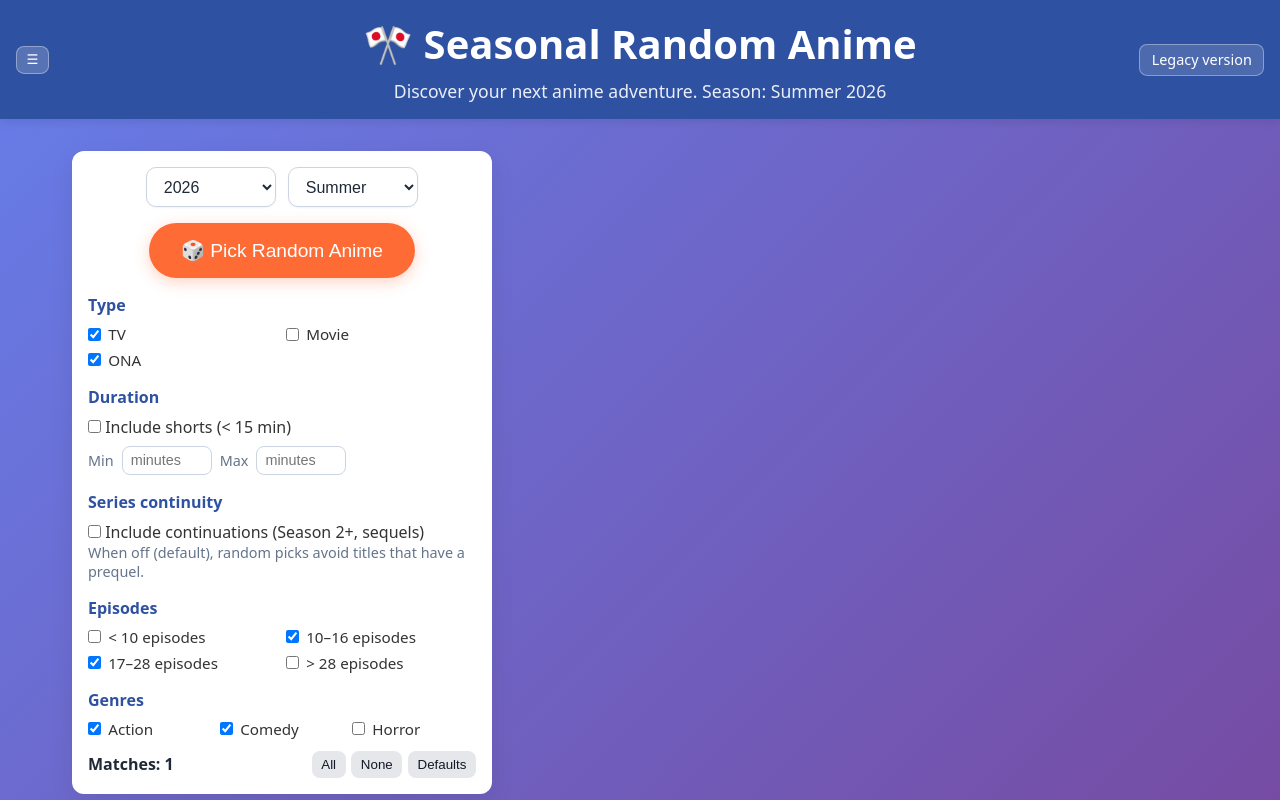
Test case: App (functional) › supports All / None / Defaults bulk actions
Click the button "All" at (329, 764), box 312,751 -> 346,778
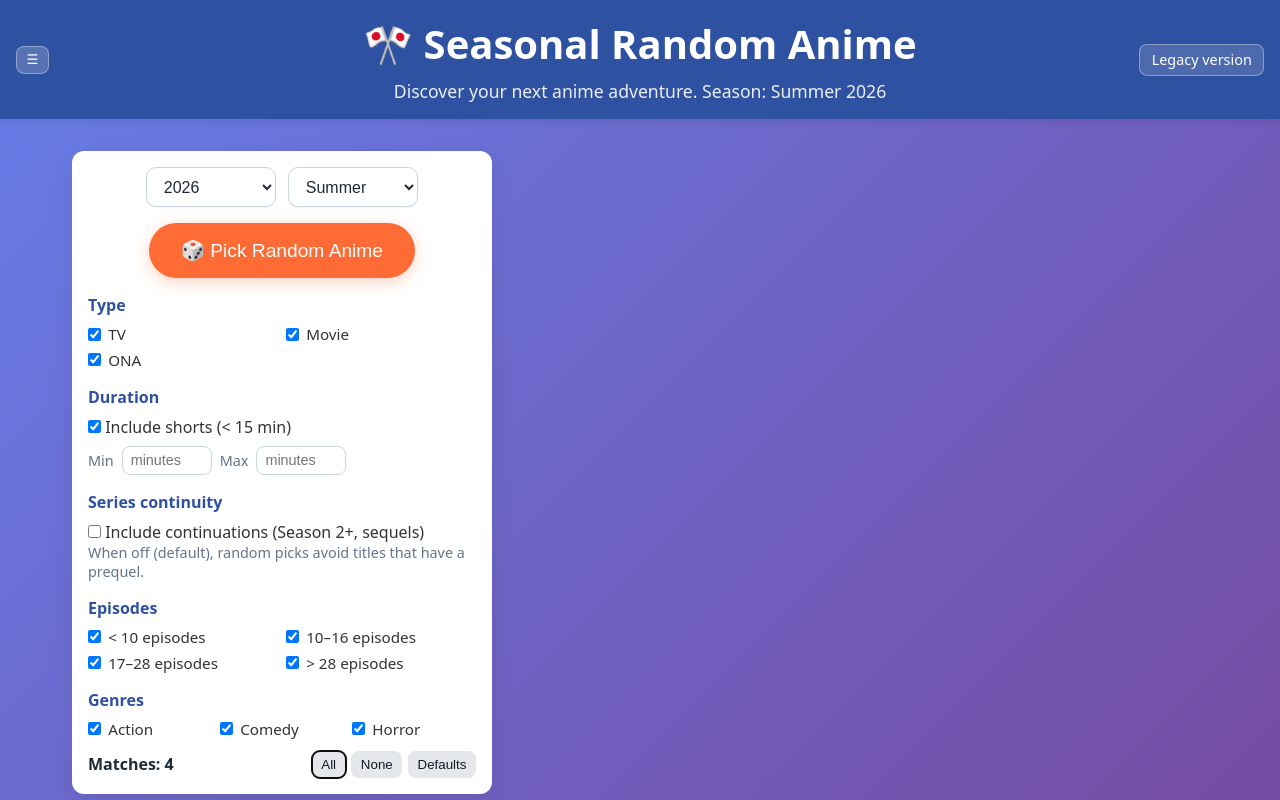
Expected: the text with test id "match-count" reads "4", 165,754 -> 174,776
Click the button "None" at (377, 764), box 351,751 -> 402,778
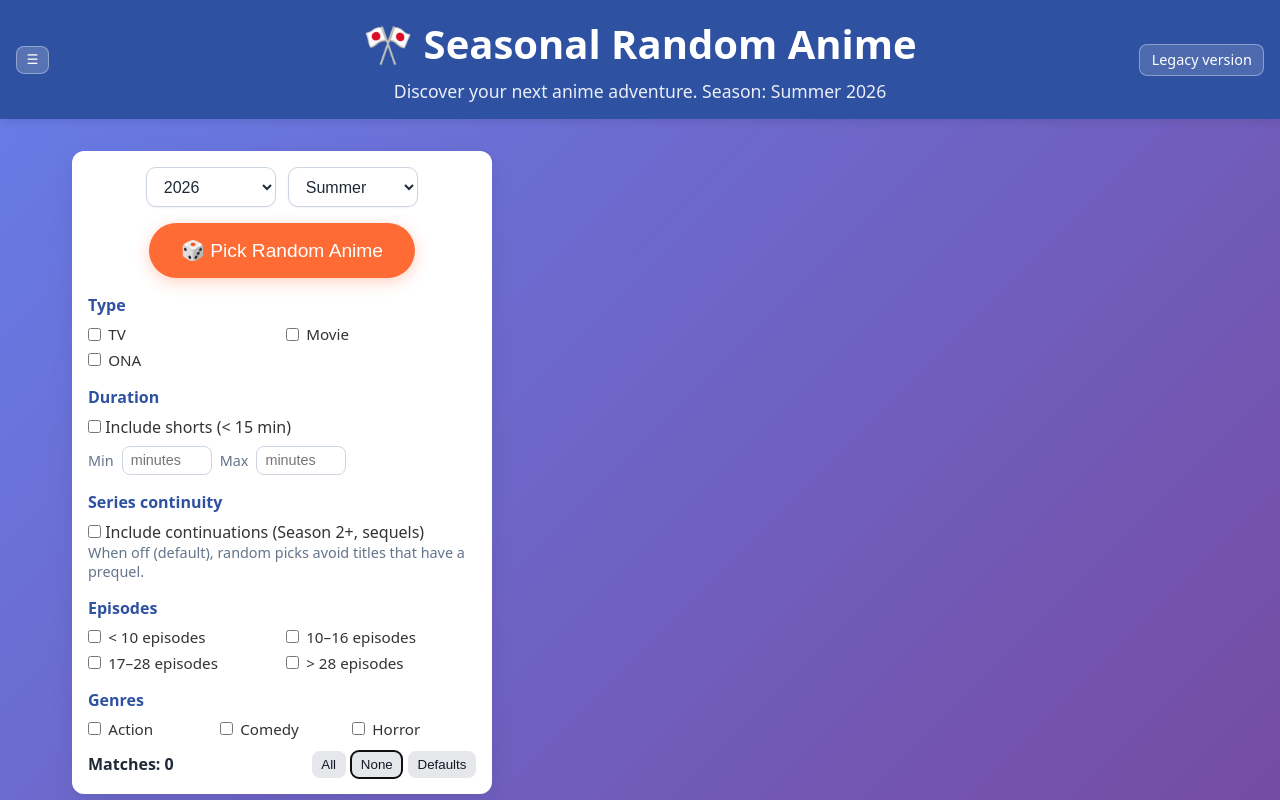
Expected: the text with test id "match-count" reads "0", 165,754 -> 174,776
Click the button "Defaults" at (442, 764), box 408,751 -> 476,778
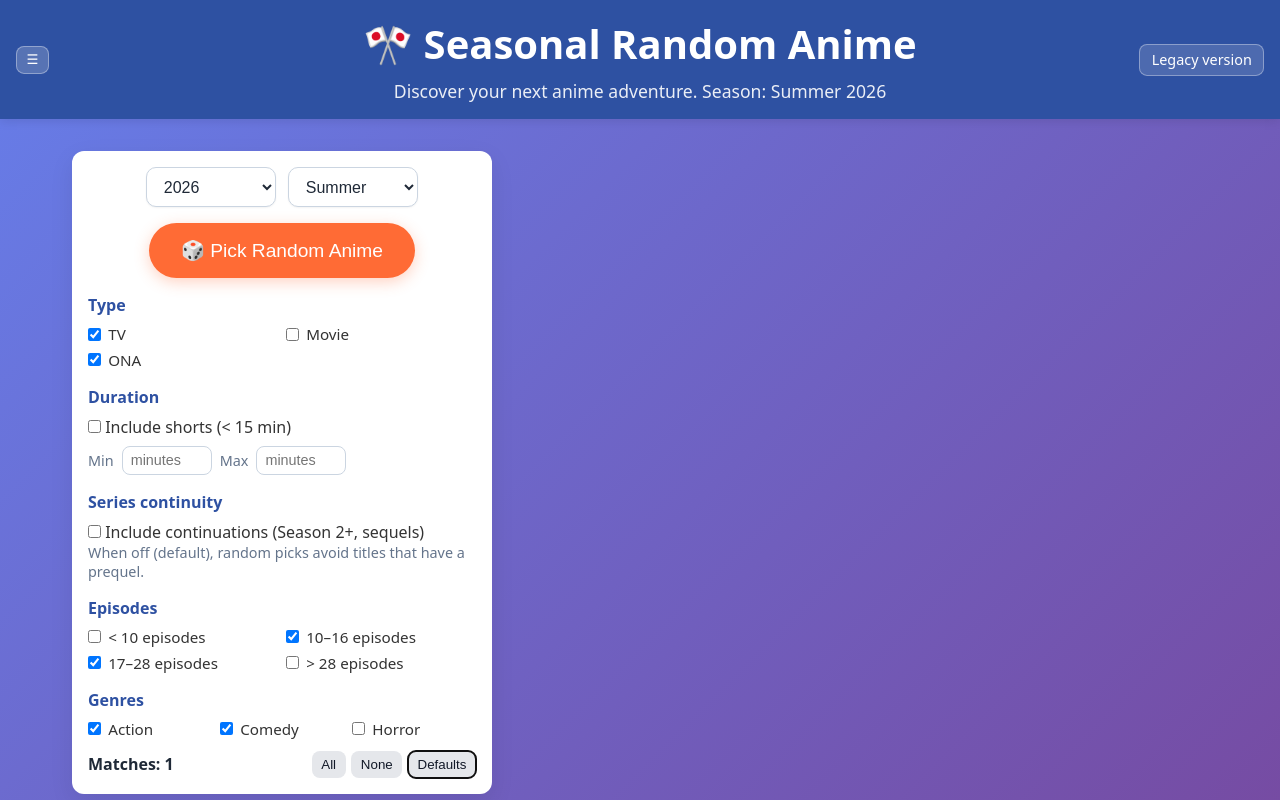
Expected: the text with test id "match-count" reads "1", 165,754 -> 174,776
